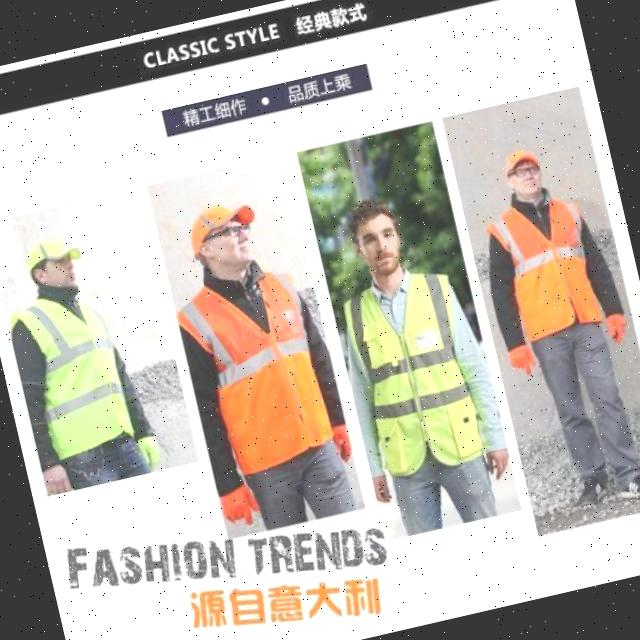vest: (338, 265, 492, 483), (178, 266, 340, 472), (12, 287, 142, 461), (480, 188, 610, 346)
